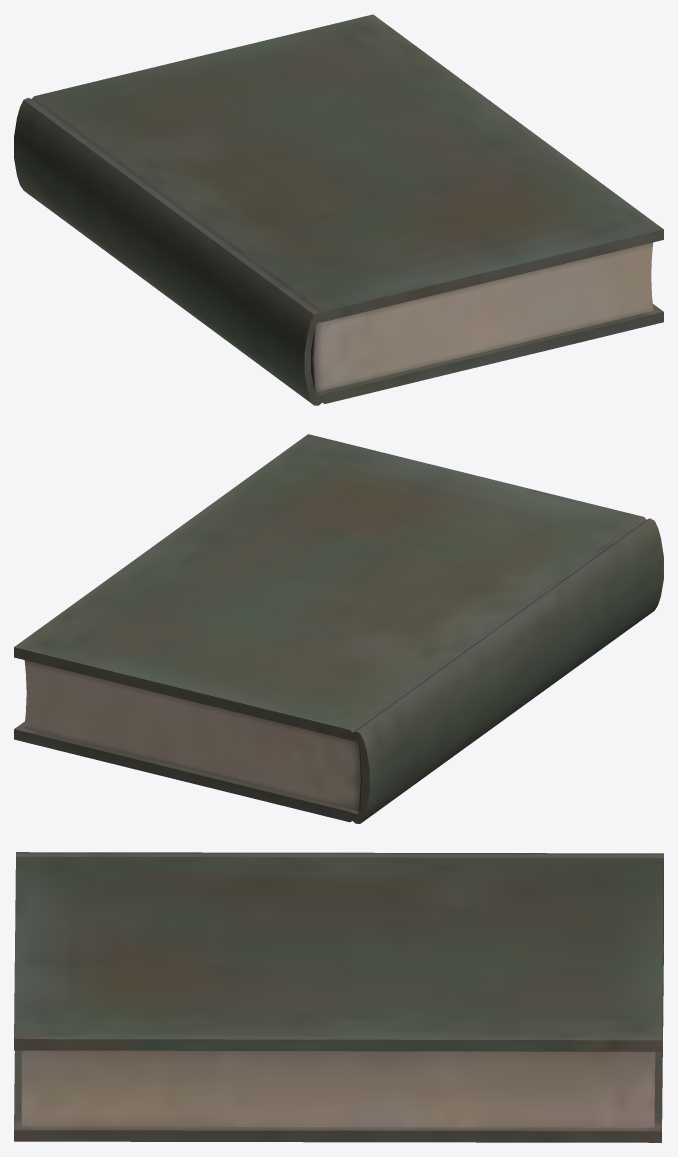
The model's file is book-single-d.glb.
3 renders of one model, top to bottom at view 1: azimuth 30°, elevation 25°; view 2: azimuth 150°, elevation 25°; view 3: azimuth 270°, elevation 25°, orthographic. The views are drawn at different scales.
Parts seen in each view (by area): view 1: book-single-d; view 2: book-single-d; view 3: book-single-d.
Boxes of the visible parts, x1=… form: book-single-d: x1=14, y1=14, x2=663, y2=405; book-single-d: x1=14, y1=434, x2=663, y2=823; book-single-d: x1=14, y1=852, x2=663, y2=1142.
Size of the model in its own units: 0.1668 by 0.041 by 0.2356.
1 material, 1 textured.
